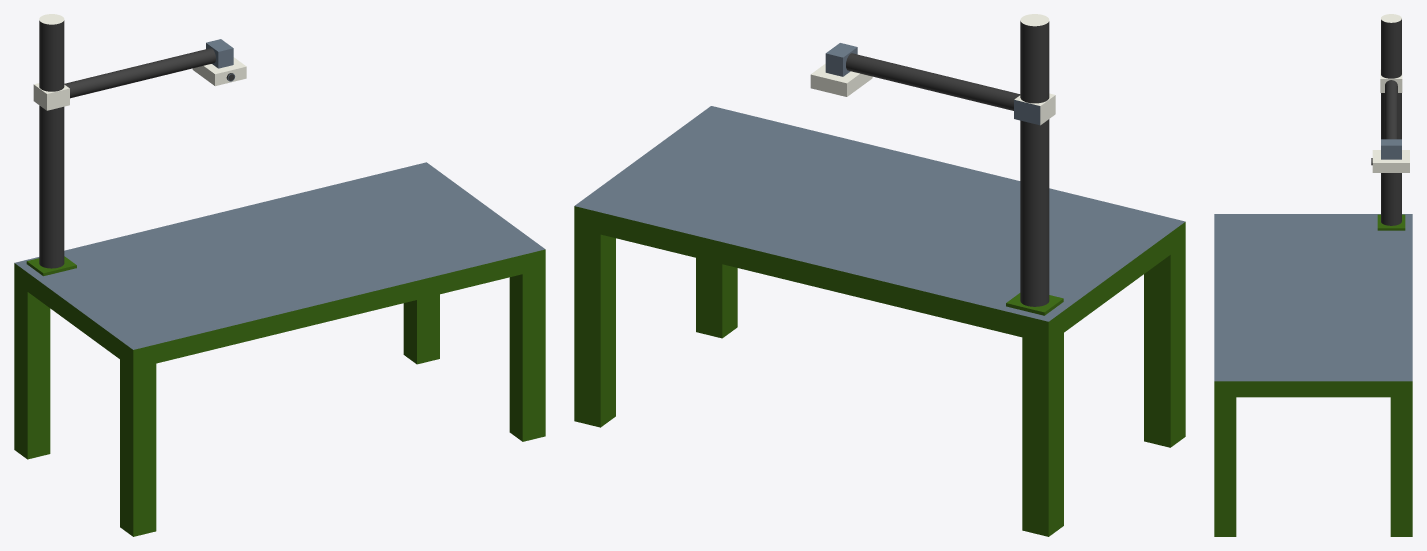
Rendered from QC_MACHINE_1.fbx.
3 renders of one model, left to right at view 1: azimuth 30°, elevation 25°; view 2: azimuth 150°, elevation 25°; view 3: azimuth 270°, elevation 25°, orthographic. The views are drawn at different scales.
Visible parts, largest first — view 1: Body1; view 2: Body1; view 3: Body1.
Part boxes in pixels (x1=…): Body1: x1=14, y1=14, x2=545, y2=536; Body1: x1=574, y1=14, x2=1185, y2=536; Body1: x1=1214, y1=14, x2=1412, y2=536.
Bounding box in the file's own units: 1800 × 1810 × 900.
